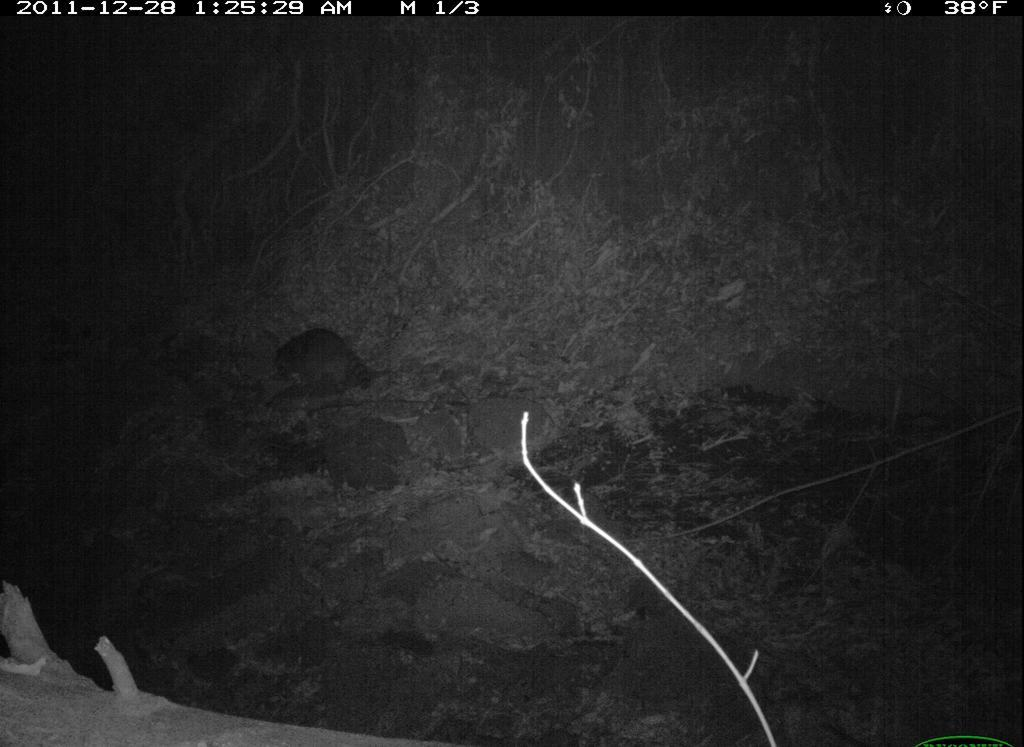raccoon: (271, 323, 402, 397)
